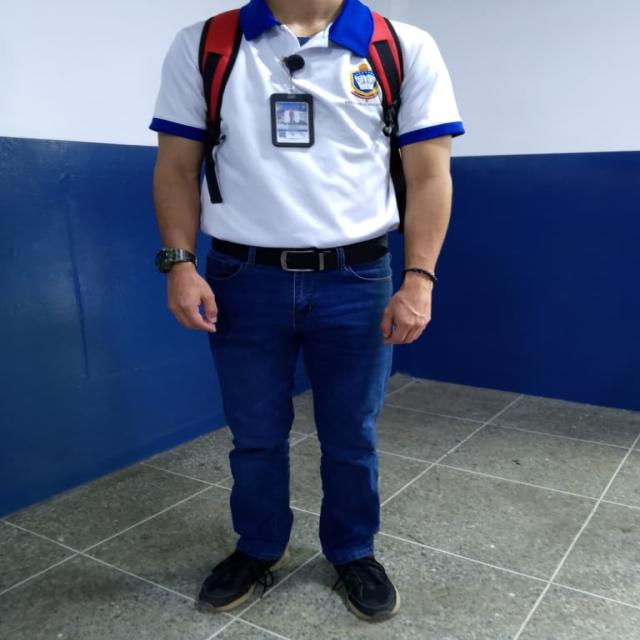carnet: (275, 102, 309, 143)
pantalon_oscuro: (205, 252, 392, 563)
uniforme_superior: (148, 0, 465, 249)
